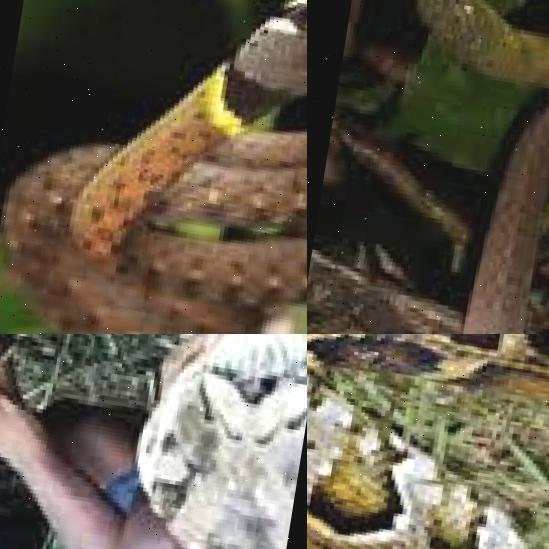snake: (0, 0, 307, 334), (314, 0, 549, 334), (0, 334, 307, 549), (307, 334, 549, 549)
